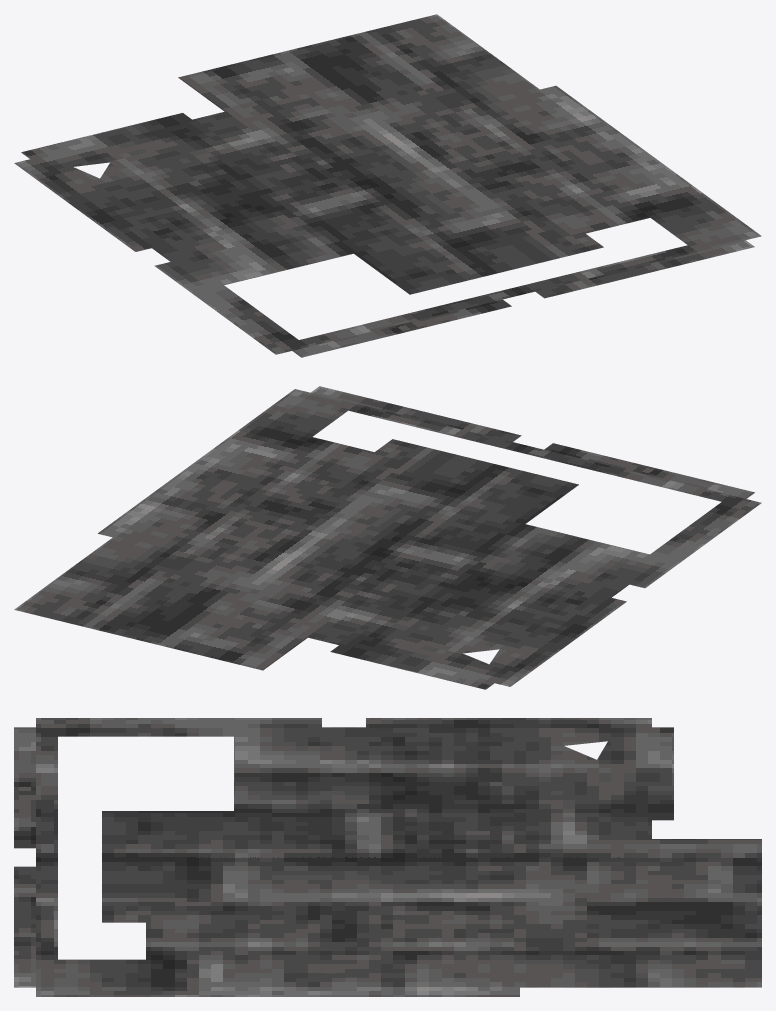
The model's file is F_BRKTOP_1.obj.
The picture shows the model from 3 angles, top to bottom: view 1: azimuth 30°, elevation 25°; view 2: azimuth 150°, elevation 25°; view 3: azimuth 270°, elevation 25°; orthographic projection. The views are drawn at different scales.
Parts seen in each view (by area): view 1: F_BRKTOP.1; view 2: F_BRKTOP.1; view 3: F_BRKTOP.1.
Boxes of the visible parts, box(x1,y1,x2,y2) form: F_BRKTOP.1: box(14, 14, 761, 357); F_BRKTOP.1: box(14, 386, 761, 689); F_BRKTOP.1: box(14, 718, 761, 996).
Bounding box in the file's own units: 480 × 0 × 544.
